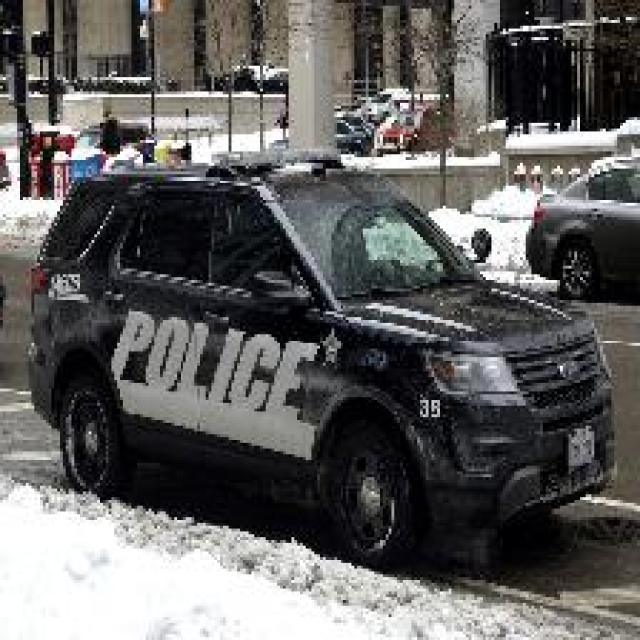emergency: (24, 158, 620, 574)
